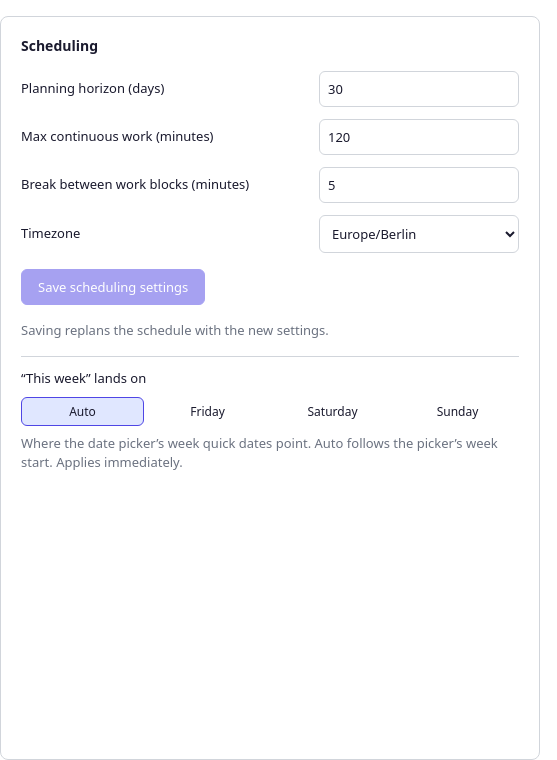
SchedulingSection — saving › horizon field: enables Save once edited and sends the patched value
The width and height of the screenshot is (557, 760).
Replace the text in the number field labelled "Planning horizon (days)" with "60" at [419, 88], box [319, 70, 519, 106]
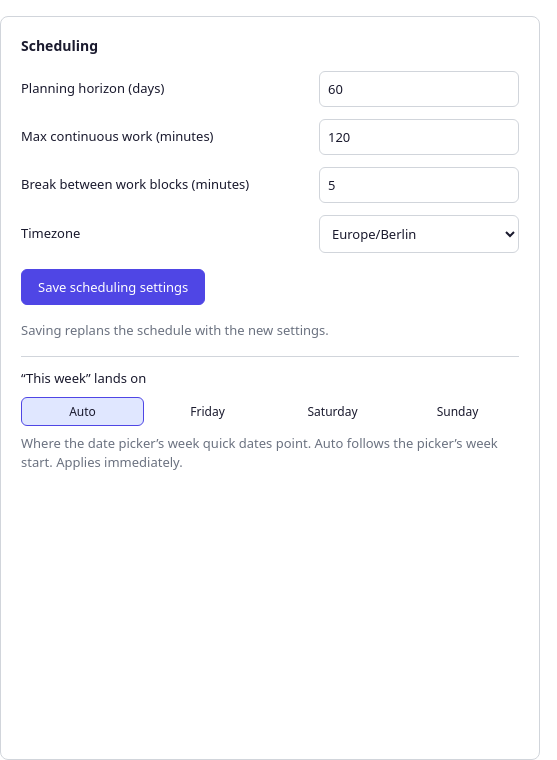
Expected: the button "Save scheduling settings" is enabled
Click the button "Save scheduling settings".
click(113, 286)  # box [21, 268, 205, 304]
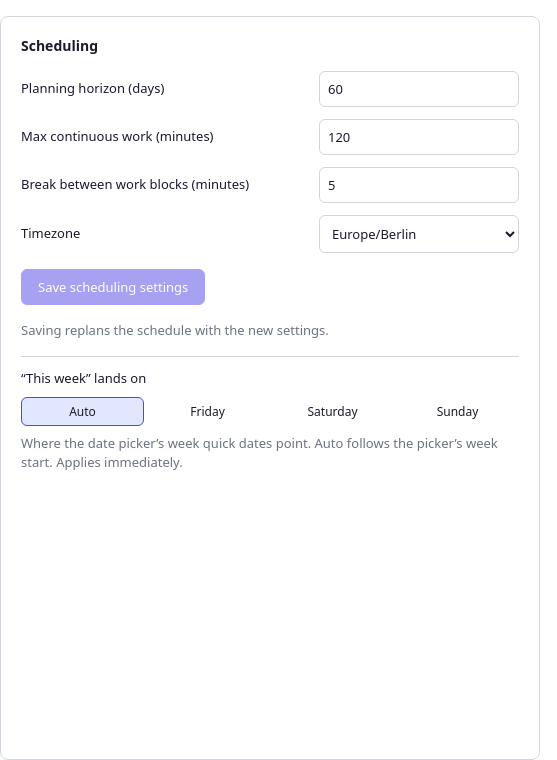
Expected: the button "Save scheduling settings" is disabled, [21, 268, 205, 304]
